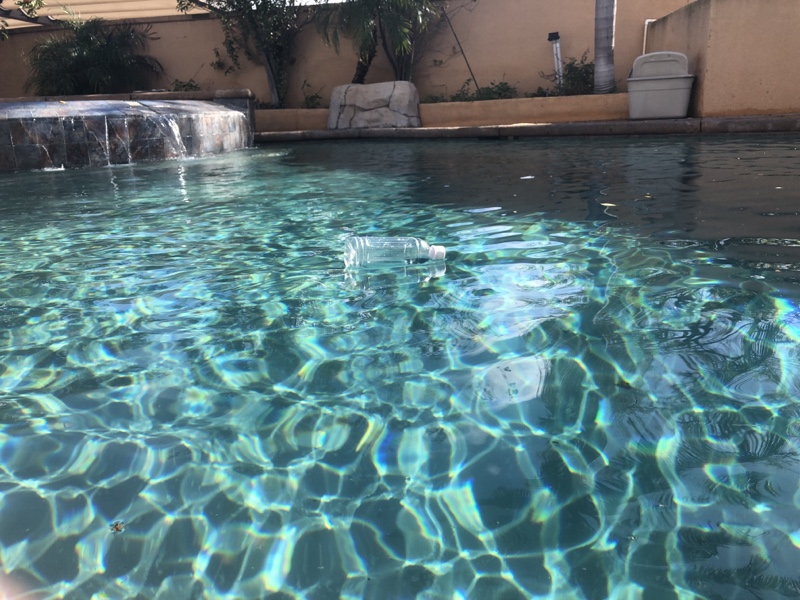Plastic Bottle: (340, 231, 450, 280)
